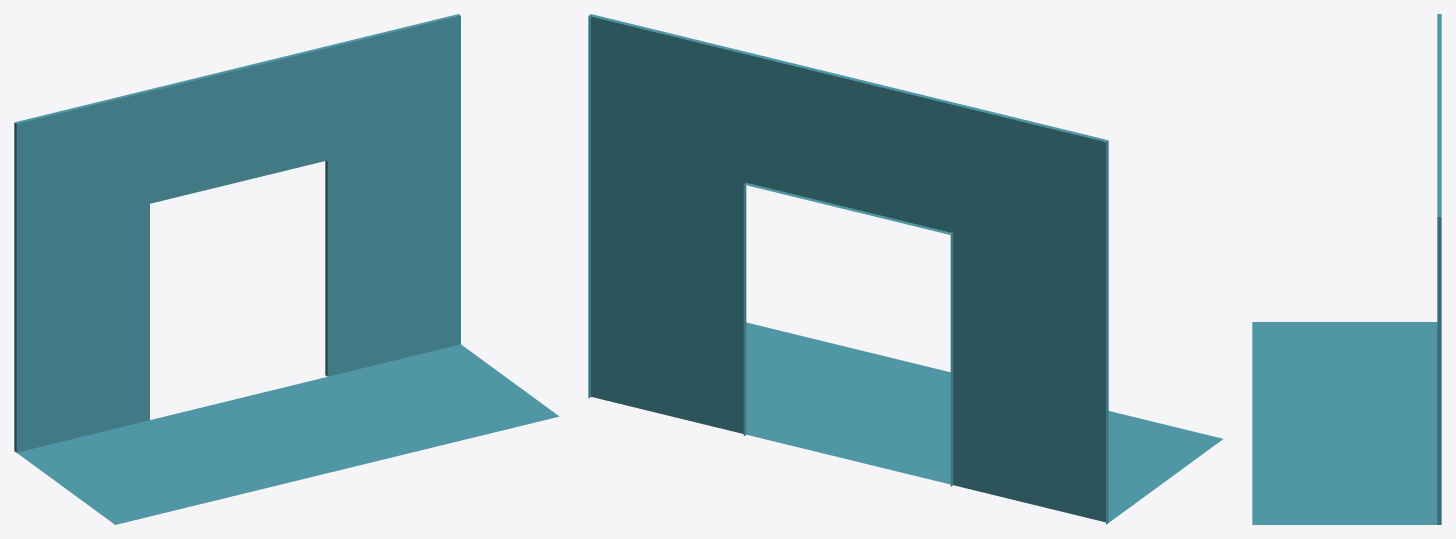
Rendered from first_wall.fbx.
The picture shows the model from 3 angles, left to right: view 1: azimuth 30°, elevation 25°; view 2: azimuth 150°, elevation 25°; view 3: azimuth 270°, elevation 25°; orthographic projection. The views are drawn at different scales.
Parts seen in each view (by area): view 1: pPlane1; view 2: pPlane1; view 3: pPlane1.
Part boxes in pixels (x1,y1,x2,y2): pPlane1: [14, 14, 559, 524]; pPlane1: [588, 14, 1222, 524]; pPlane1: [1252, 14, 1441, 524].
Bounding box in the file's own units: 1094 × 773 × 431.
